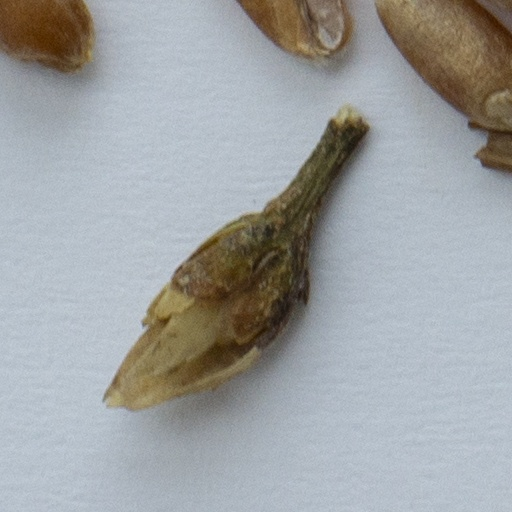Wheat-grain-damaged-poly: (225, 0, 357, 68)
